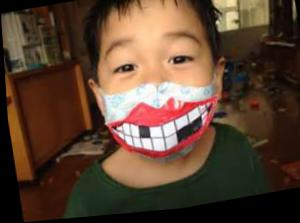WRONG: (90, 23, 228, 179)
